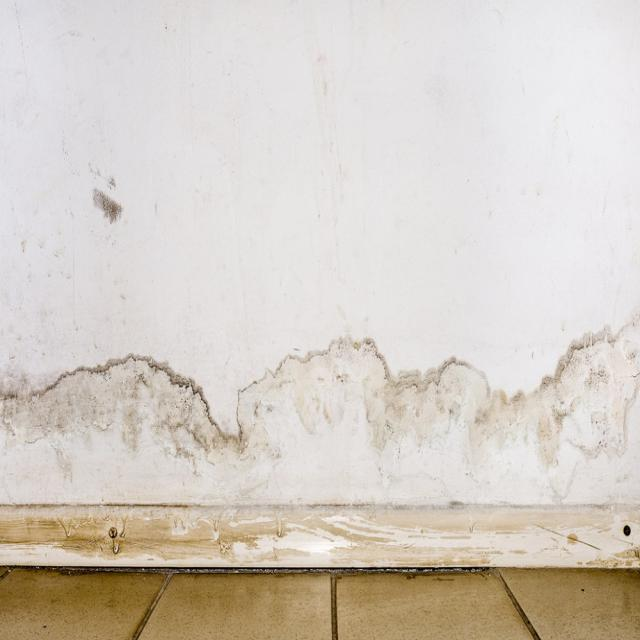dampness: (0, 323, 639, 510)
